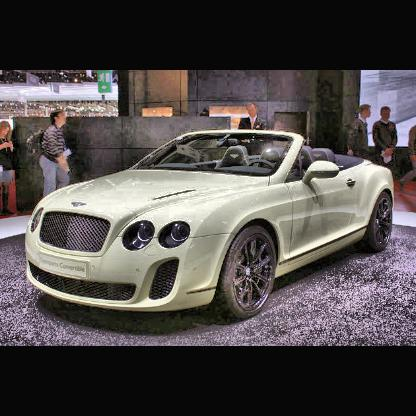Bentley Continental Supersports Conv- Convertible 2012: (25, 130, 398, 322)
